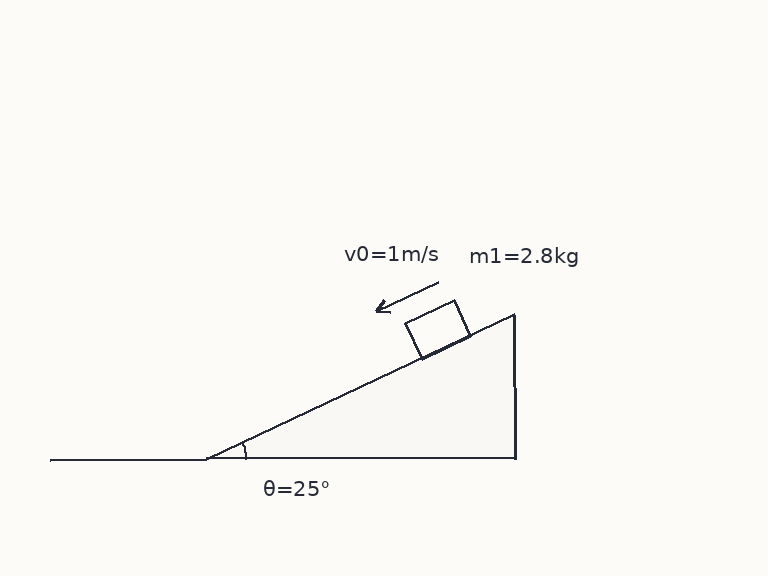block: (403, 298, 472, 360)
ramp: (204, 313, 516, 461)
